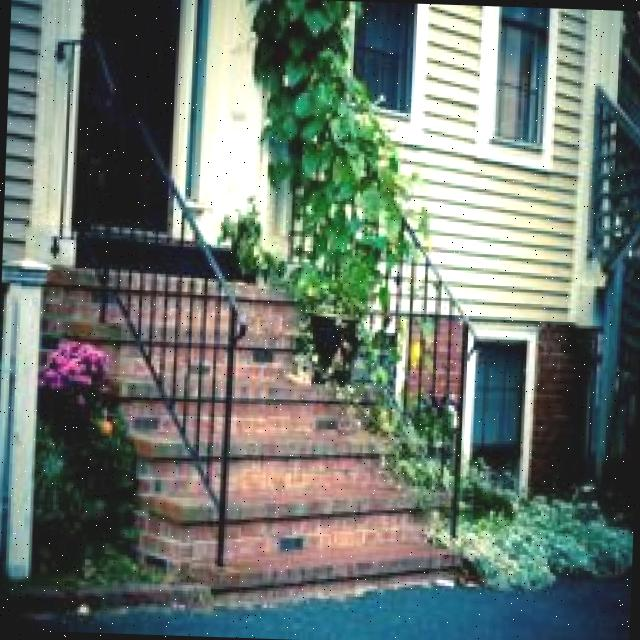stairs: (41, 262, 472, 600)
